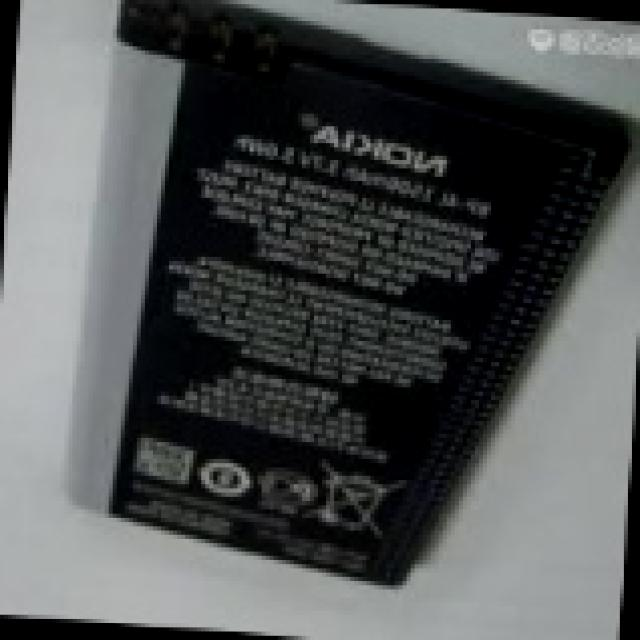elektronik: (96, 5, 632, 580)
